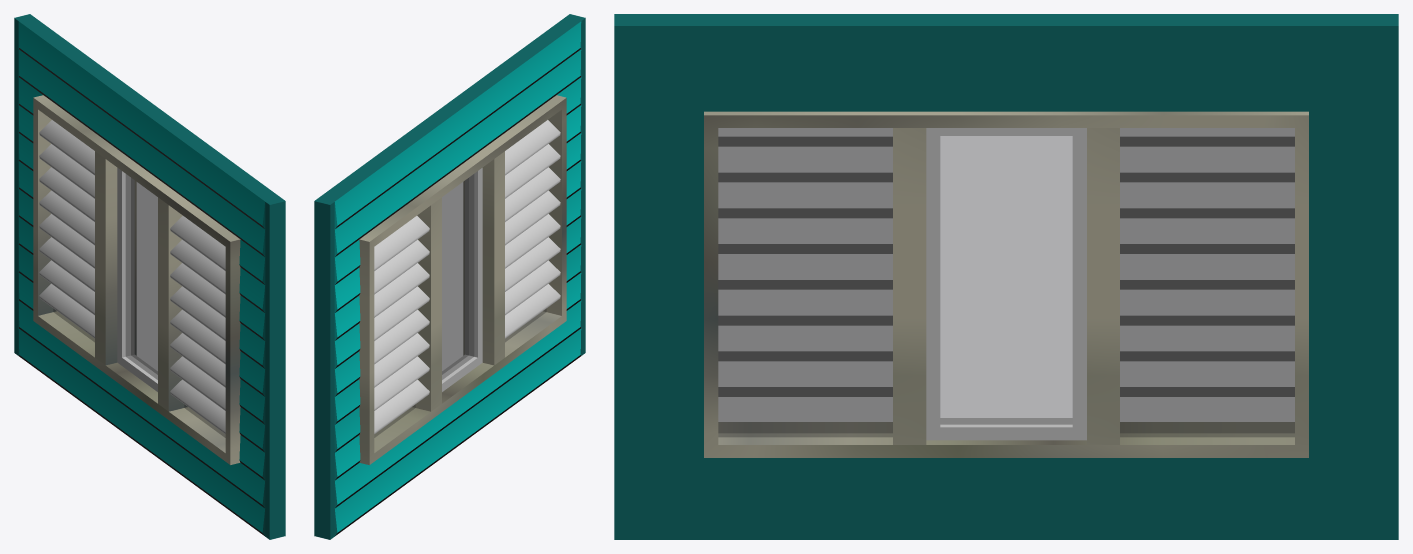
Rendered from TSP_House_Wall_Short_10A.fbx.
3 renders of one model, left to right at view 1: azimuth 30°, elevation 25°; view 2: azimuth 150°, elevation 25°; view 3: azimuth 270°, elevation 25°, orthographic. The views are drawn at different scales.
Parts seen in each view (by area): view 1: TSP_House_Wall_Short_10A, TSP_House_Wall_Short_10A_Blinds, TSP_House_Wall_Short_10A_Window; view 2: TSP_House_Wall_Short_10A, TSP_House_Wall_Short_10A_Blinds, TSP_House_Wall_Short_10A_Window; view 3: TSP_House_Wall_Short_10A, TSP_House_Wall_Short_10A_Window, TSP_House_Wall_Short_10A_Blinds.
Part boxes in pixels (<box>): TSP_House_Wall_Short_10A: <box>14,14,285,539</box>; TSP_House_Wall_Short_10A_Blinds: <box>39,120,225,433</box>; TSP_House_Wall_Short_10A_Window: <box>117,168,157,391</box>; TSP_House_Wall_Short_10A: <box>314,14,585,539</box>; TSP_House_Wall_Short_10A_Blinds: <box>374,120,560,433</box>; TSP_House_Wall_Short_10A_Window: <box>442,168,482,391</box>; TSP_House_Wall_Short_10A: <box>614,14,1398,539</box>; TSP_House_Wall_Short_10A_Window: <box>926,128,1086,440</box>; TSP_House_Wall_Short_10A_Blinds: <box>718,137,1294,396</box>.
Bounding box in the file's own units: 29 × 300 × 415.
